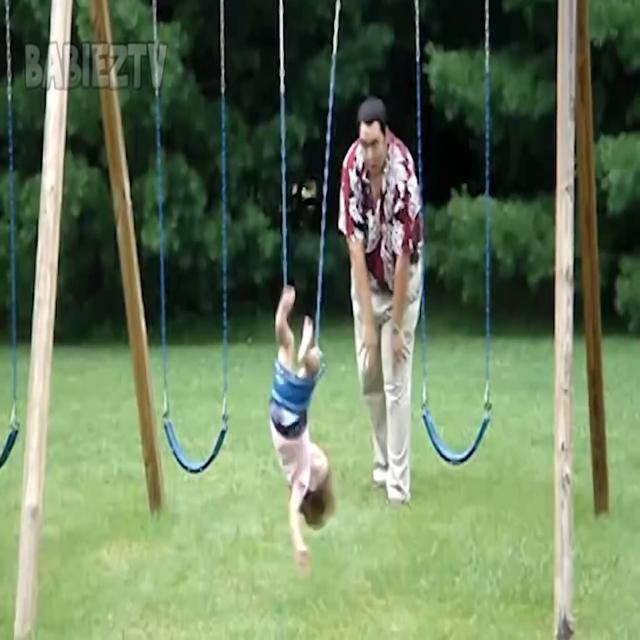child: (270, 280, 333, 579)
